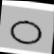no answer: (8, 16, 44, 50)
